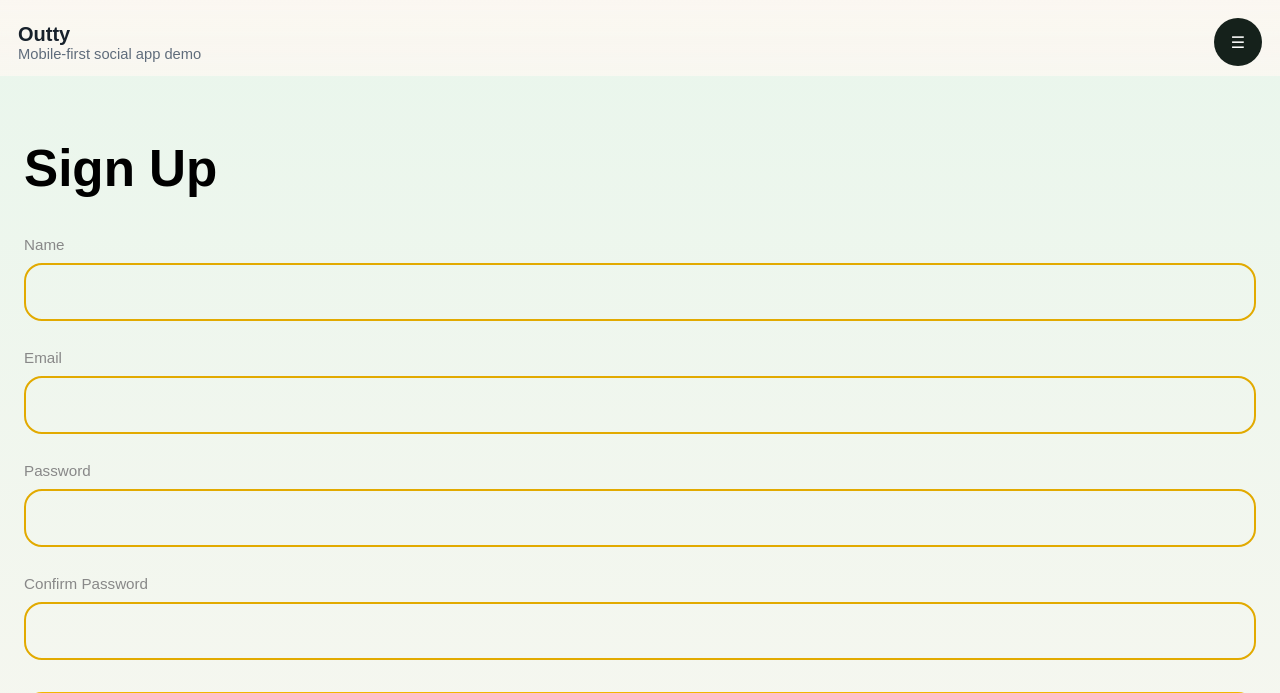
it: Sign Up Feature (BDD) › SCENARIO: Password missing uppercase letter should display a clear error message
The width and height of the screenshot is (1280, 693).
// The user fills out the form but provides a password without an uppercase letter
Type "Gilberto" into the field labelled "Name" at x=640, y=292, box 24,263 -> 1256,321
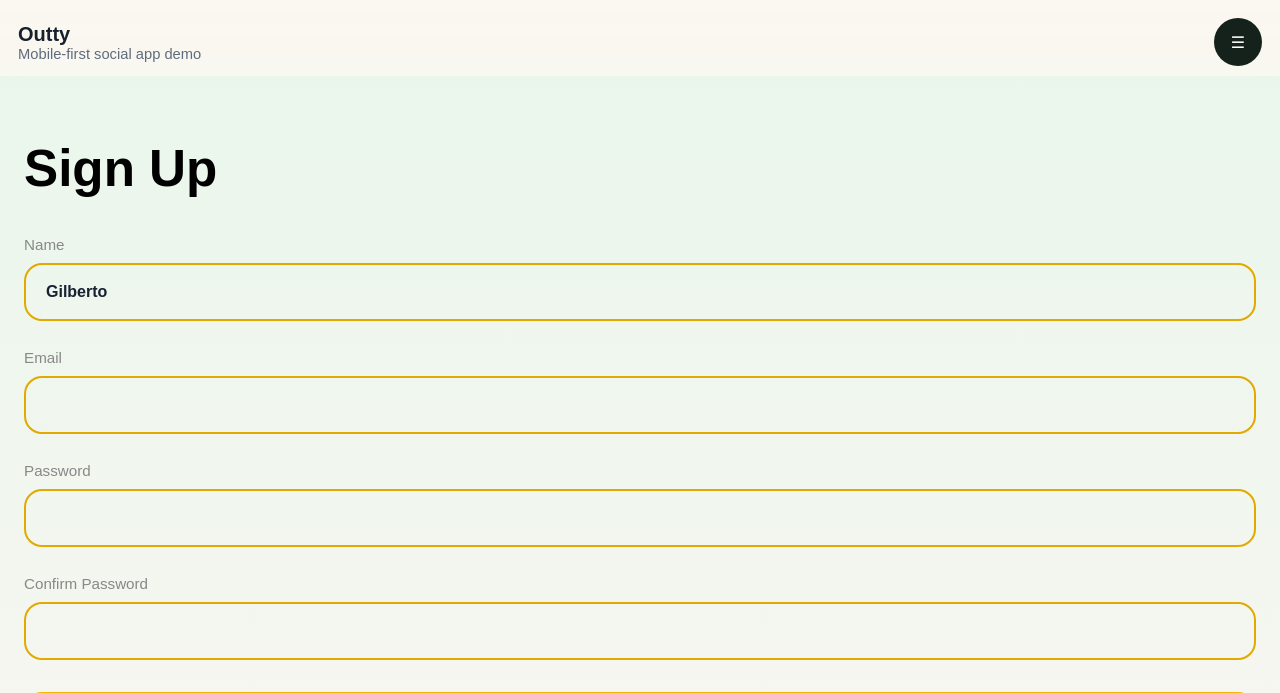
Type "test@kennesaw.edu" into the field labelled "Email" at x=640, y=405, box 24,376 -> 1256,434
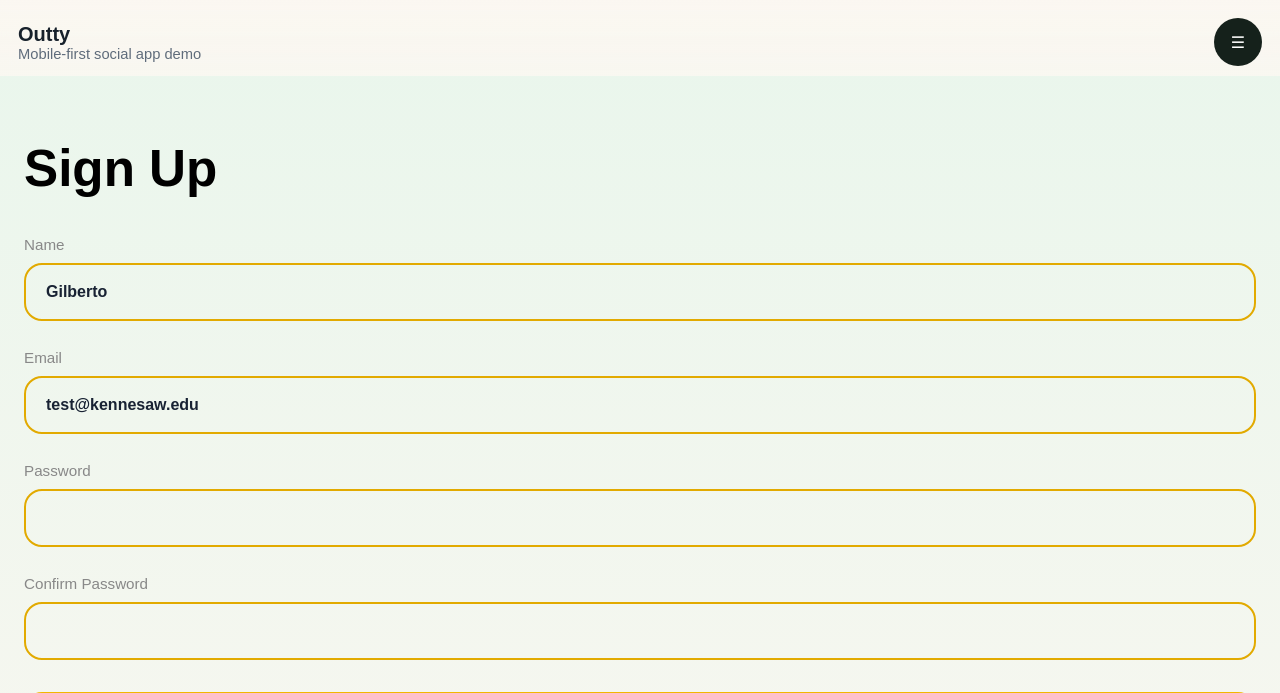
Type "password123" into the password field labelled "Password" at x=640, y=518, box 24,489 -> 1256,547
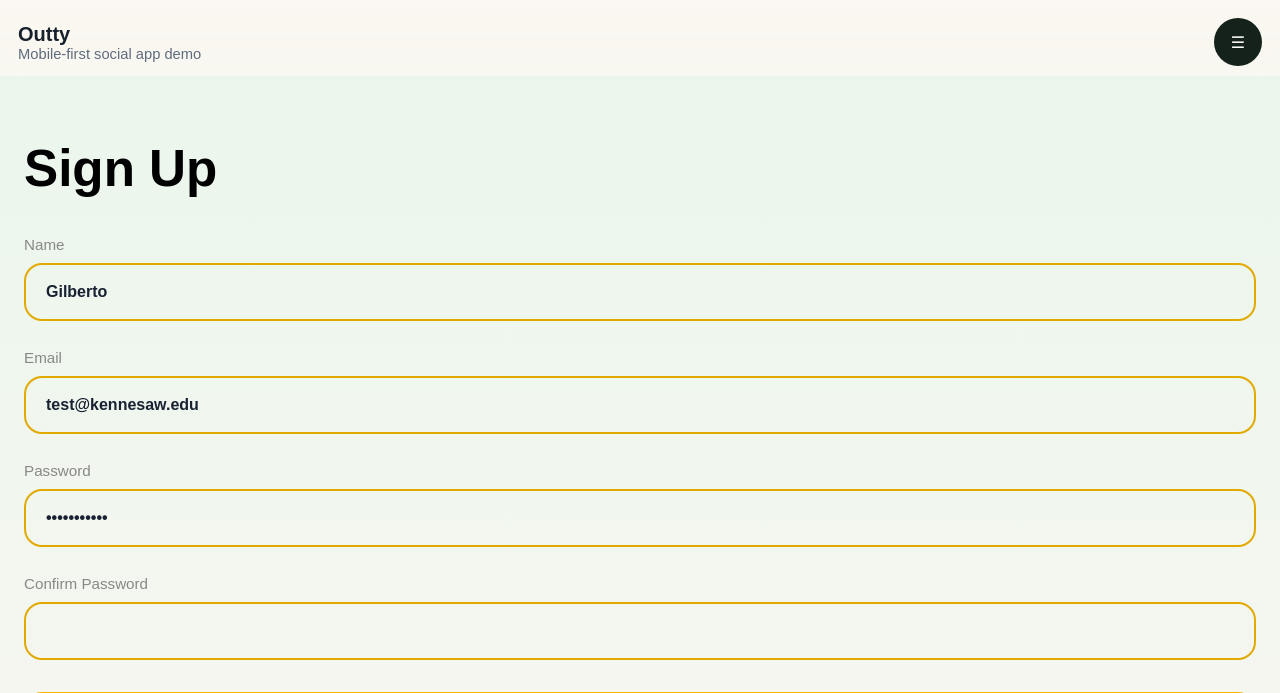
Type "password123" into the password field labelled "Confirm Password" at x=640, y=631, box 24,602 -> 1256,660
(page scrolled)
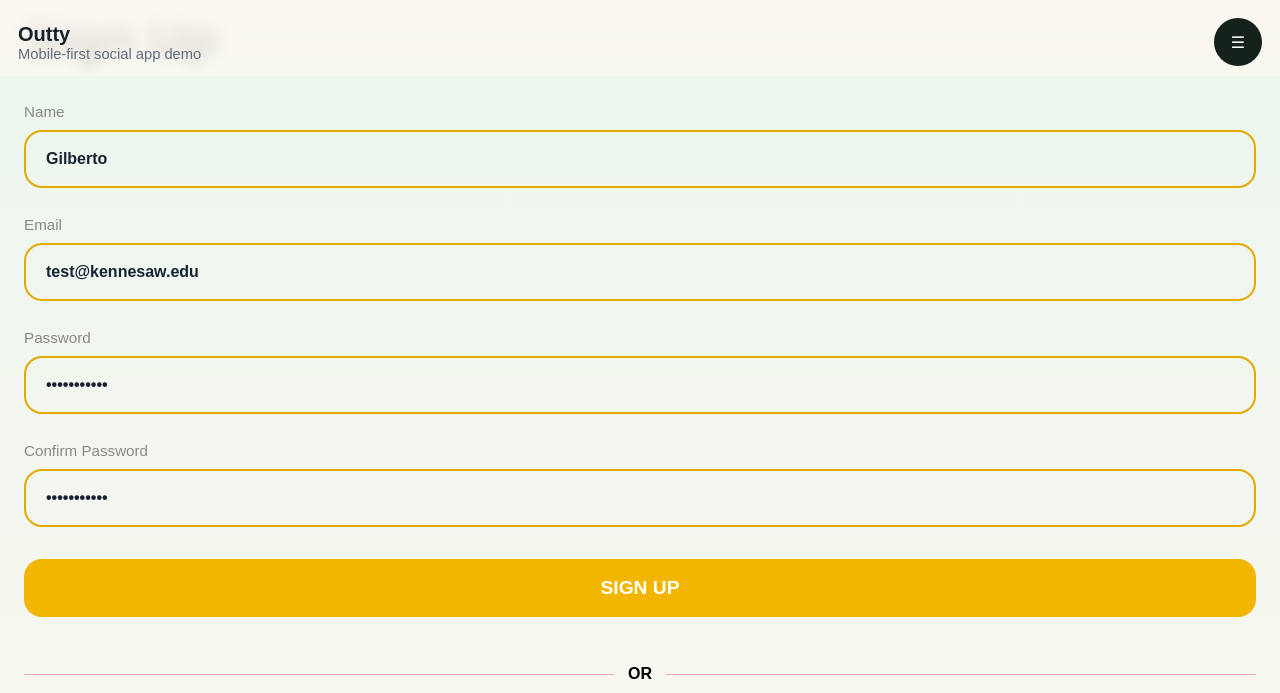
// Submit the form directly to trigger the handleSubmit function
Submit the form
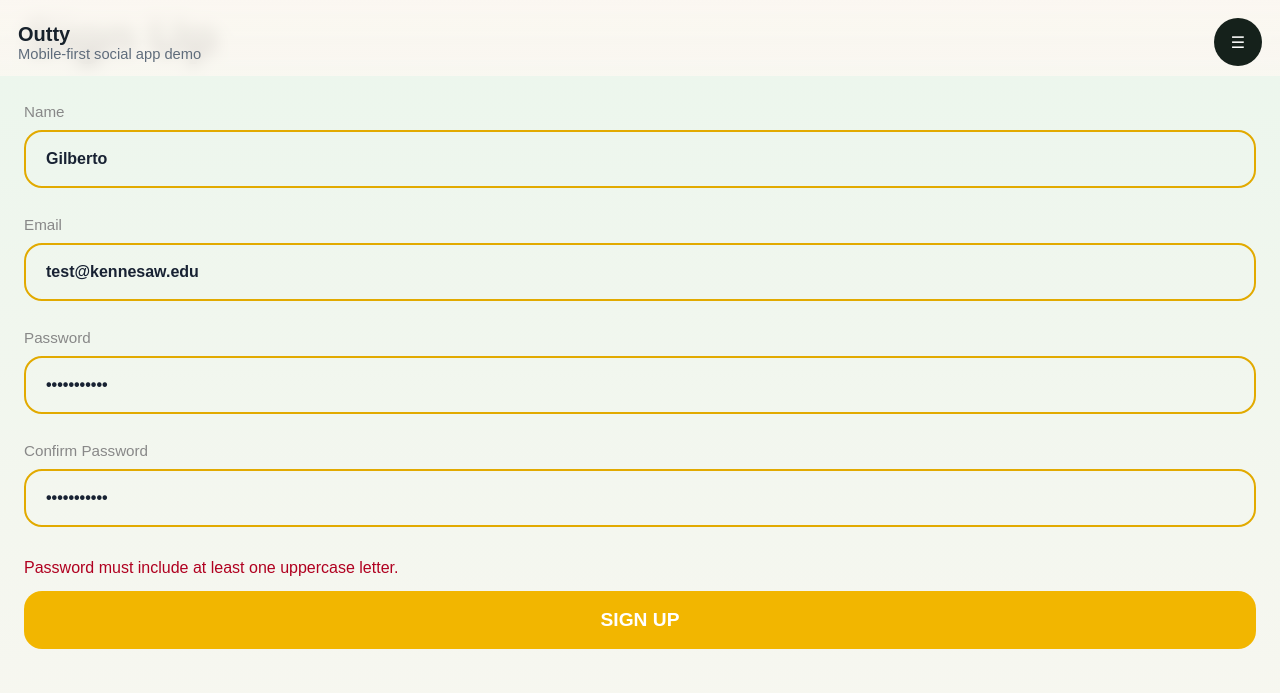
expect the text "Password must include at least one uppercase letter." is shown: met, box 24,559 -> 398,576
